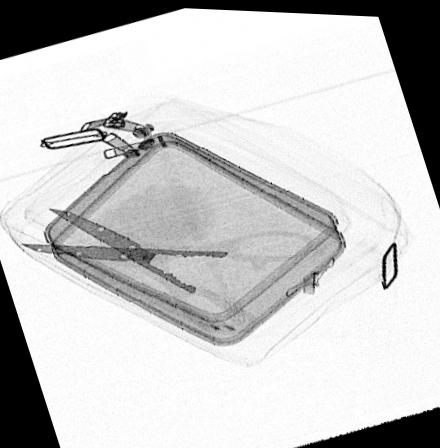Scissors: (18, 207, 312, 335)
